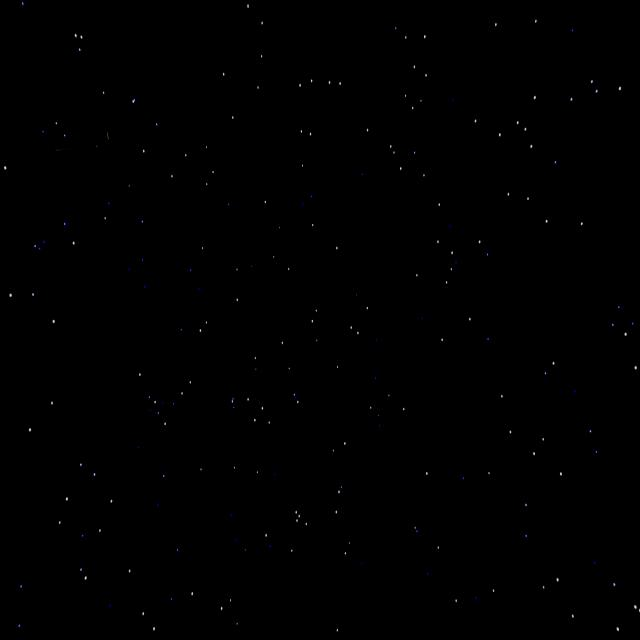satellite: (52, 113, 149, 215)
